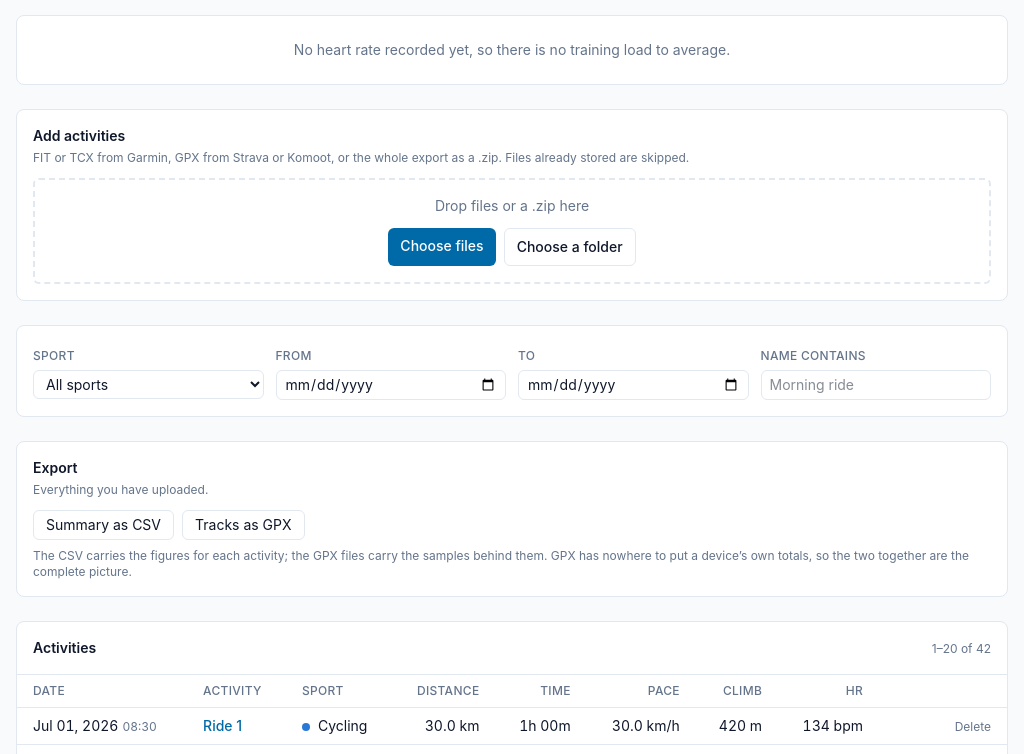
Test: Dashboard filtering › reports a failed list without blanking the whole dashboard
(page scrolled)
Select "Running (12)" in the dropdown labelled "Sport" at (148, 384), box [33,370,264,399]
(page scrolled)
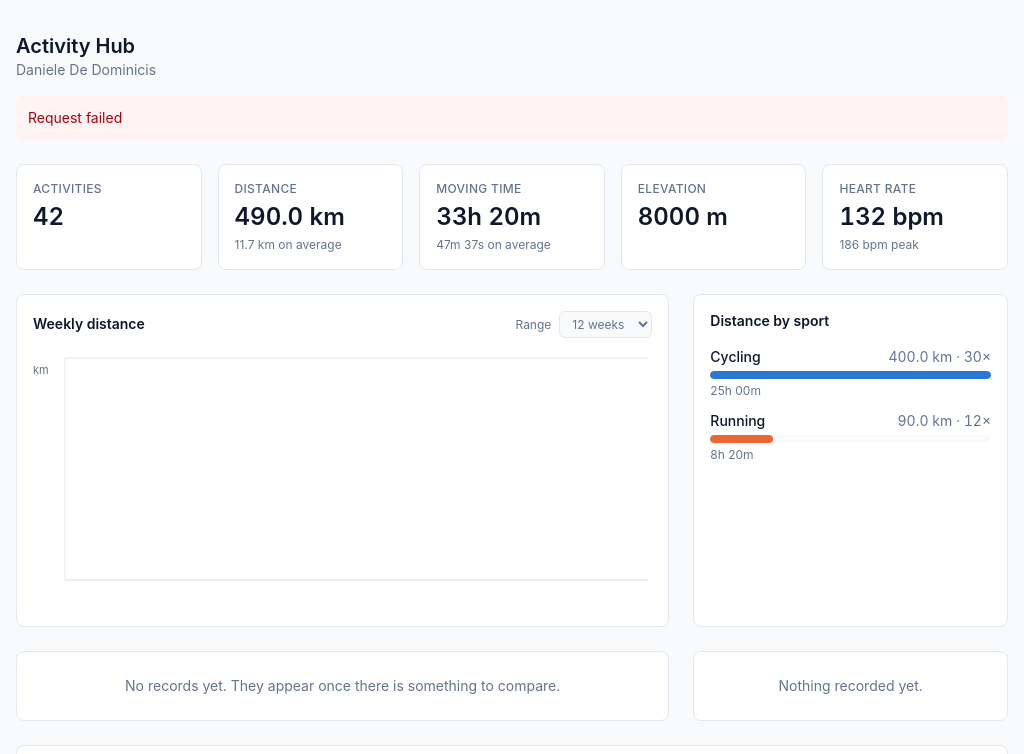
Check: the heading "Activity Hub" is shown, box [16,32,156,60]
Check: the message reads "Request failed", box [28,109,122,126]
